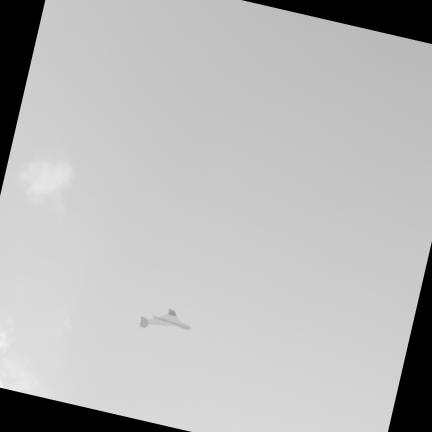Shahed: (139, 309, 189, 329)
